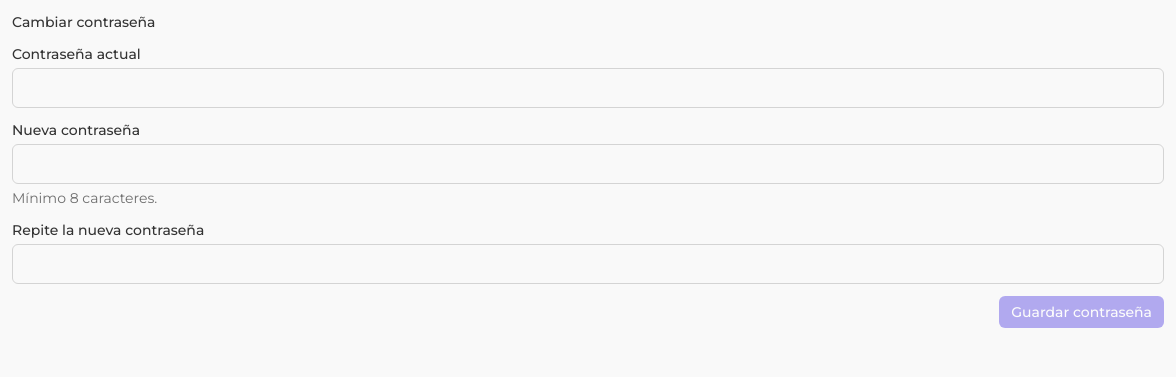
Scenario: ChangePasswordForm › maps a wrong current password to its own Spanish message
Type "old passphrase" into the password field labelled "Contraseña actual" at point(588, 88), box [12, 68, 1164, 108]
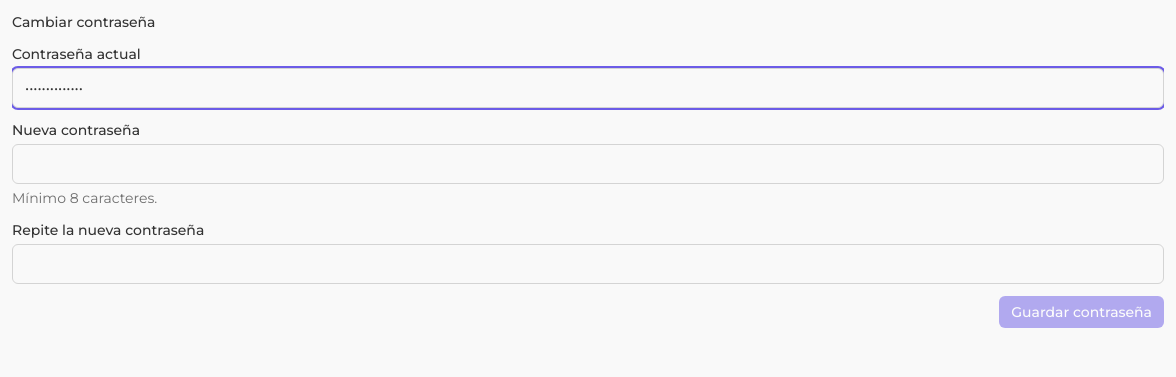
Type "a fresh new passphrase" into the password field labelled "Nueva contraseña" at point(588, 164), box [12, 144, 1164, 184]
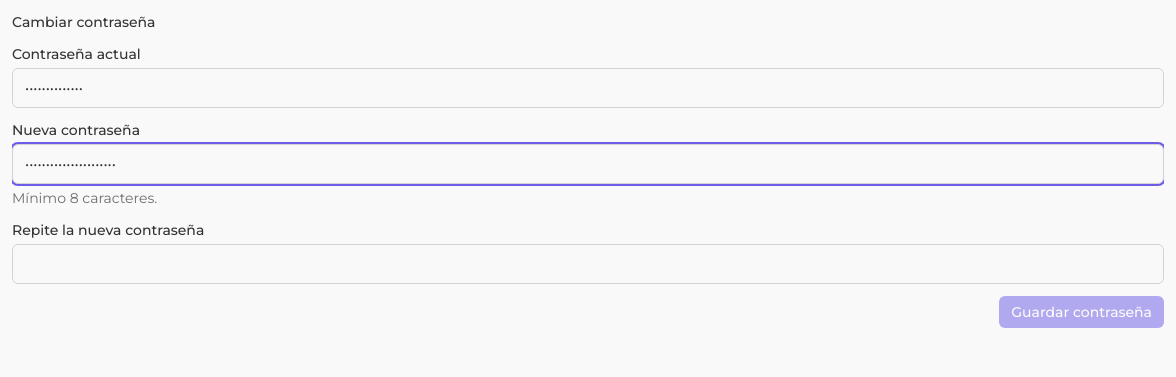
Type "a fresh new passphrase" into the password field labelled "Repite la nueva contraseña" at point(588, 264), box [12, 244, 1164, 284]
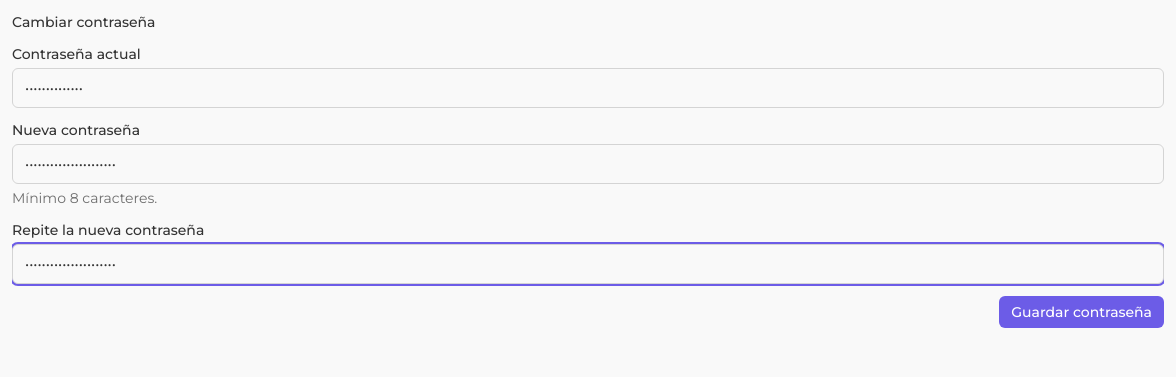
Click the button "Guardar contraseña" at point(1082, 312), box [999, 296, 1164, 328]
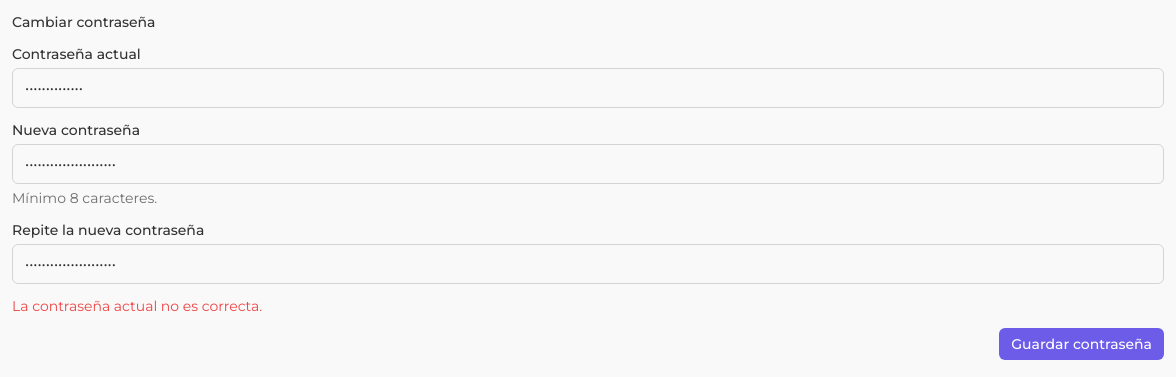
Check: the message reads "La contraseña actual no es correcta.", box [12, 297, 262, 315]
